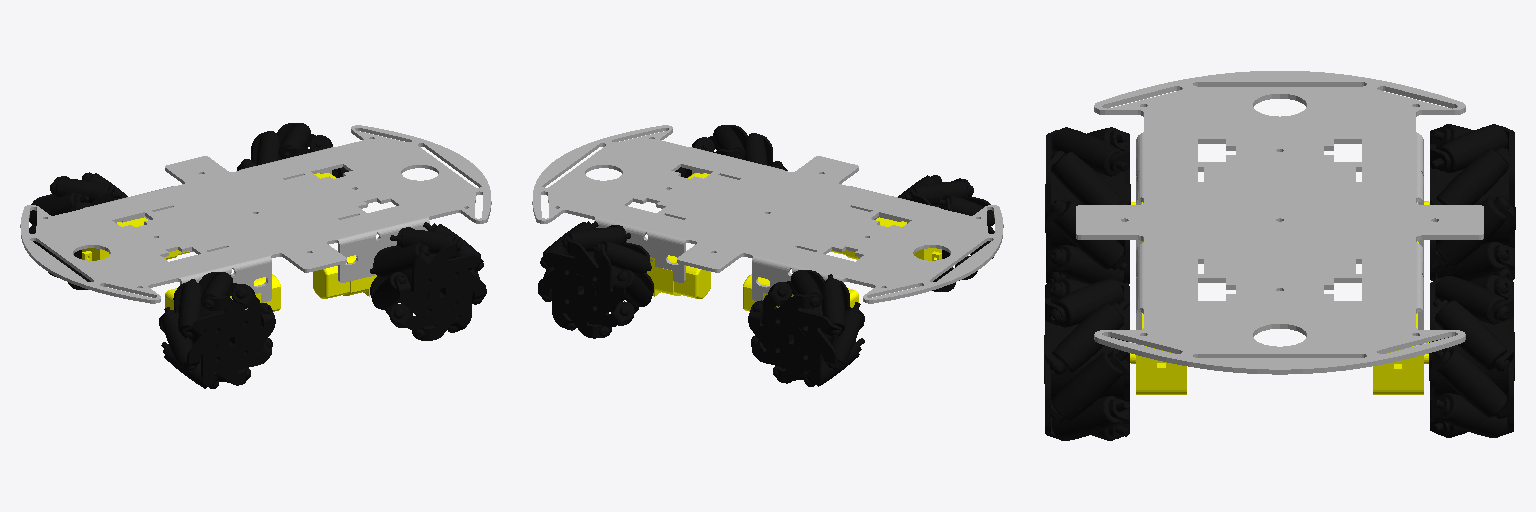
The robot description file, URDF, robot "base_link_only":
<?xml version="1.0"?>
<robot name="base_link_only">
    <material name="silver">
        <color rgba="0.75 0.75 0.75 1.0"/> <!-- Plateado -->
    </material>
    <material name="black">
		<color rgba="0.1 0.1 0.1 1.0"/> <!-- Plomo oscuro metálico -->
	</material>
	<material name="yellow">
        <color rgba="1.0 1.0 0.0 1.0"/> <!-- Amarillo -->
	</material>


    <link name="base_link">
        <visual>
            <geometry>
                <mesh filename="base_movil\meshes\base_scaled_v1.stl"/>
            </geometry>
            <material name="silver"/>
        </visual>
        <inertial>
            <mass value="0.4599"/>
            <origin xyz="0.0 0.0 -0.076005"/>
            <inertia ixx="625100000" ixy="-0.00000302" ixz="-6586" iyy="2636000000" iyz="-0.000002321" izz="2036000000"/>
        </inertial>
    </link>

    <!-- Agregar objeto adicional al enlace base_link -->
    <link name="motor_dc_1">
        <visual>
            <geometry>
				<mesh filename= "base_movil\meshes\motor_scaled_v1.stl"/>
			</geometry>
            <material name= "yellow"/>
			<origin xyz="0.0 0.0 0.0" rpy="0.0 0.0 0.0"/> <!-- Posición relativa al enlace base_link -->
        </visual>
        <inertial>
            <mass value= "0.182431"/>
            <origin xyz= "0.017103 0.0 -0.064"/>
            <inertia ixx= "11974059" ixy="6925" ixz="44273" iyy="60417029" iyz="118" izz="61898680"/>
        </inertial>
    </link>
	<link name="motor_dc_2">
        <visual>
            <geometry>
				<mesh filename= "base_movil\meshes\motor_scaled_v1.stl"/>
			</geometry>
            <material name= "yellow"/>
			<origin xyz="0.0 0.0 0.0" rpy="0.0 0.0 0.0"/> <!-- Posición relativa al enlace base_link -->
        </visual>
        <inertial>
            <mass value= "0.182431"/>
            <origin xyz= "0.017103 0.0 -0.064"/>
            <inertia ixx= "11974059" ixy="6925" ixz="44273" iyy="60417029" iyz="118" izz="61898680"/>
        </inertial>
    </link>
	<link name="motor_dc_3">
        <visual>
            <geometry>
				<mesh filename= "base_movil\meshes\motor_scaled_v1.stl"/>
			</geometry>
            <material name= "yellow"/>
			<origin xyz="0.0 0.0 0.0" rpy="0.0 0.0 0.0"/> <!-- Posición relativa al enlace base_link -->
        </visual>
        <inertial>
            <mass value= "0.182431"/>
            <origin xyz= "0.017103 0.0 -0.064"/>
            <inertia ixx= "11974059" ixy="6925" ixz="44273" iyy="60417029" iyz="118" izz="61898680"/>
        </inertial>
    </link>
	<link name="motor_dc_4">
        <visual>
            <geometry>
				<mesh filename= "base_movil\meshes\motor_scaled_v1.stl"/>
			</geometry>
            <material name= "yellow"/>
			<origin xyz="0.0 0.0 0.0" rpy="0.0 0.0 0.0"/> <!-- Posición relativa al enlace base_link -->
        </visual>
        <inertial>
            <mass value= "0.182431"/>
            <origin xyz= "0.017103 0.0 -0.064"/>
            <inertia ixx= "11974059" ixy="6925" ixz="44273" iyy="60417029" iyz="118" izz="61898680"/>
        </inertial>
    </link>
    
    <joint name="motor_dc_1_joint" type="fixed">
        <parent link="base_link"/>
        <child link="motor_dc_1"/>
        <origin xyz="0.06425 0.043487 -0.01287" rpy="-1.5708 0.0 3.14"/>
    </joint>
	<joint name="motor_dc_2_joint" type="fixed">
        <parent link="base_link"/>
        <child link="motor_dc_2"/>
        <origin xyz="0.06425 -0.043487 -0.01287" rpy="1.5708 0.0 3.14"/>
    </joint>
	<joint name="motor_dc_3_joint" type="fixed">
        <parent link="base_link"/>
        <child link="motor_dc_3"/>
        <origin xyz="-0.06425 0.043487 -0.01287" rpy="1.5708 0.0 0.0"/>
    </joint>
	<joint name="motor_dc_4_joint" type="fixed">
        <parent link="base_link"/>
        <child link="motor_dc_4"/>
        <origin xyz="-0.06425 -0.043487 -0.01287" rpy="-1.5708 0.0 0.0"/>
    </joint>
    
	<link name="wheel_1">
        <visual>
            <geometry>
                <mesh filename="base_movil\meshes\ruedader.stl"/>
            </geometry>
            <material name="black"/>
			<origin xyz="0.0 0.0 0.0" rpy="0.0 0.0 0.0"/>
        </visual>
        <collision>
            <origin xyz="0.0 0.0 0.0" rpy="0.0 0.0 0.0"/>
            <geometry>
                <mesh filename="base_movil\meshes\cilindro_ruedas_mesh.stl"/>
            </geometry>
        </collision>
        <inertial>
            <mass value="0.27282"/>
            <origin xyz="0.0 0.0 0.0"/>
            <inertia ixx="60736443" ixy="-0.0003584" ixz="-0.00000956" iyy="60741948" iyz="-0.0001412" izz="71971219"/>
        </inertial>
    </link>
	<link name="wheel_2">
        <visual>
            <geometry>
                <mesh filename="base_movil\meshes\ruedaizq.stl"/>
            </geometry>
            <material name="black"/>
			<origin xyz="0.0 0.0 0.0" rpy="0.0 0.0 0.0"/> 
        </visual>
        <collision>
            <origin xyz="0.0 0.0 0.0" rpy="0.0 0.0 0.0"/>
            <geometry>
                <mesh filename="base_movil\meshes\cilindro_ruedas_mesh.stl"/>
            </geometry>
        </collision>
        <inertial>
            <mass value="0.27282"/>
            <origin xyz="0.0 0.0 0.0"/>
            <inertia ixx="60736443" ixy="-0.0003584" ixz="-0.00000956" iyy="60741948" iyz="-0.0001412" izz="71971219"/>
        </inertial>
    </link>
	<link name="wheel_3">
        <visual>
            <geometry>
                <mesh filename="base_movil\meshes\ruedaizq.stl"/>
            </geometry>
            <material name="black"/>
			<origin xyz="0.0 0.0 0.0" rpy="0.0 0.0 0.0"/>
        </visual>
        <collision>
            <origin xyz="0.0 0.0 0.0" rpy="0.0 0.0 0.0"/>
            <geometry>
                <mesh filename="base_movil\meshes\cilindro_ruedas_mesh.stl"/>
            </geometry>
        </collision>
        <inertial>
            <mass value="0.27282"/>
            <origin xyz="0.0 0.0 0.0"/>
            <inertia ixx="60736443" ixy="-0.0003584" ixz="-0.00000956" iyy="60741948" iyz="-0.0001412" izz="71971219"/>
        </inertial>
    </link>
	<link name="wheel_4">
        <visual>
            <geometry>
                <mesh filename="base_movil\meshes\ruedader.stl"/>
            </geometry>
            <material name="black"/>
			<origin xyz="0.0 0.0 0.0" rpy="0.0 0.0 0.0"/>
        </visual>
        <collision>
            <origin xyz="0.0 0.0 0.0" rpy="0.0 0.0 0.0"/>
            <geometry>
                <mesh filename="base_movil\meshes\cilindro_ruedas_mesh.stl"/>
            </geometry>
        </collision>
        <inertial>
            <mass value="0.27282"/>
            <origin xyz="0.0 0.0 0.0"/>
            <inertia ixx="60736443" ixy="-0.0003584" ixz="-0.00000956" iyy="60741948" iyz="-0.0001412" izz="71971219"/>
        </inertial>
    </link>
  
    <joint name="rueda1" type="continuous">
        <axis xyz="0 0 1"/>
        <parent link="motor_dc_1"/>
        <child link="wheel_1"/>
        <origin xyz="0.0 0.0 -0.027043" rpy="0 3.14 0"/> <!--1.570796-->
    </joint>
	<joint name="rueda2" type="continuous">
        <axis xyz="0 0 1"/>
        <parent link="motor_dc_2"/>
        <child link="wheel_2"/>
        <origin xyz="0.0 0.0 -0.027043" rpy="0 -3.14 0"/>
    </joint>
	<joint name="rueda3" type="continuous">
        <axis xyz="0 0 1"/>
        <parent link="motor_dc_3"/>
        <child link="wheel_3"/>
        <origin xyz="0.0 0.0 -0.027043" rpy="-3.14 0 0"/>
    </joint>
	<joint name="rueda4" type="continuous">
        <axis xyz="0 0 1"/>
        <parent link="motor_dc_4"/>
        <child link="wheel_4"/>
        <origin xyz="0.0 0.0 -0.027043" rpy="3.14 0 0"/>
    </joint> 
    
</robot>

--- Facts derived from the render (not from the file) ---
The picture shows the robot from 3 angles, left to right: view 1: azimuth 30°, elevation 25°; view 2: azimuth 150°, elevation 25°; view 3: azimuth 270°, elevation 25°; orthographic projection.
Robot: base_link_only — 9 links, 8 joints (4 continuous, 4 fixed); root link base_link; default pose: every joint at zero.
Links seen in each view (by area): view 1: base_link, wheel_2, wheel_4, wheel_3, wheel_1, motor_dc_2, motor_dc_4, motor_dc_3; view 2: base_link, wheel_3, wheel_1, wheel_4, wheel_2, motor_dc_1, motor_dc_4, motor_dc_3; view 3: base_link, wheel_2, wheel_1, wheel_3, wheel_4, motor_dc_2, motor_dc_1.
Boxes of the visible links, x1,y1,x2,y2 form: base_link: [20, 125, 491, 303]; wheel_2: [370, 222, 486, 340]; wheel_4: [159, 272, 275, 388]; wheel_3: [29, 172, 127, 289]; wheel_1: [237, 123, 348, 177]; motor_dc_2: [313, 255, 376, 298]; motor_dc_4: [165, 274, 280, 311]; motor_dc_3: [82, 217, 193, 260]; base_link: [532, 125, 1003, 303]; wheel_3: [748, 270, 864, 386]; wheel_1: [538, 221, 653, 338]; wheel_4: [898, 175, 994, 291]; wheel_2: [675, 125, 787, 177]; motor_dc_1: [647, 255, 710, 298]; motor_dc_4: [830, 217, 941, 260]; motor_dc_3: [743, 274, 858, 311]; base_link: [1076, 71, 1483, 374]; wheel_2: [1044, 278, 1129, 440]; wheel_1: [1429, 275, 1514, 437]; wheel_3: [1430, 124, 1515, 280]; wheel_4: [1045, 127, 1130, 284]; motor_dc_2: [1130, 313, 1186, 394]; motor_dc_1: [1373, 313, 1428, 394].
Bounding box of the posed robot: 0.26 × 0.173 × 0.0605 m (x, y, z).
Meshes: 4 distinct files referenced, 9 mesh visuals loaded (4 binary STL).
